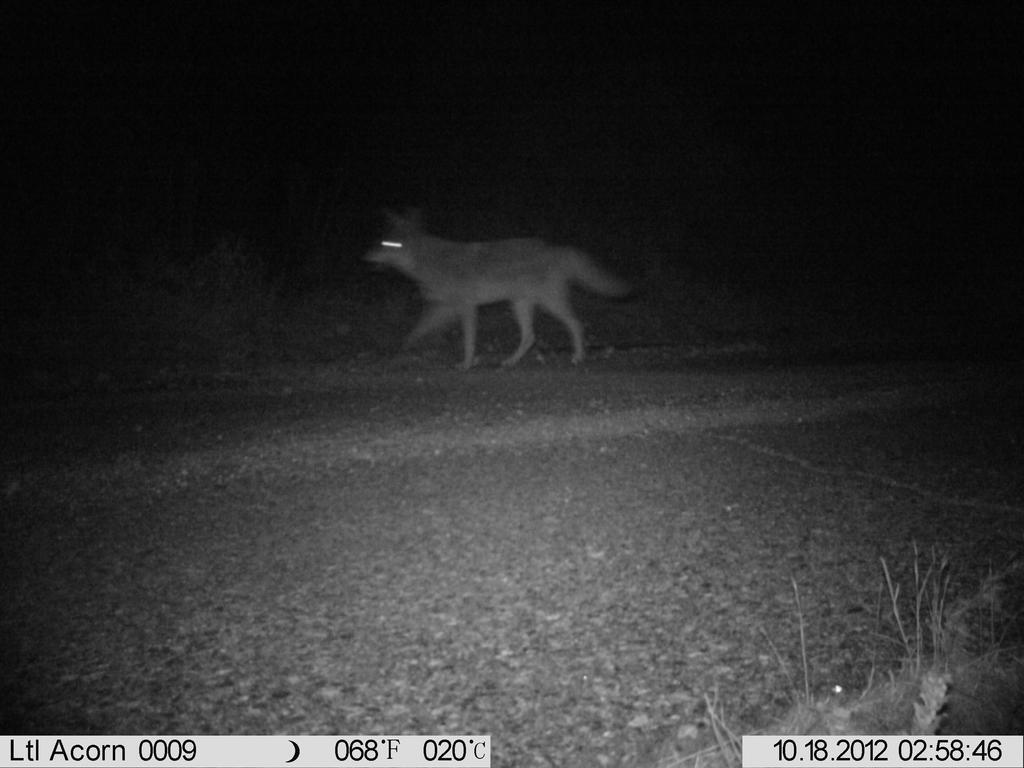coyote: (354, 195, 643, 379)
